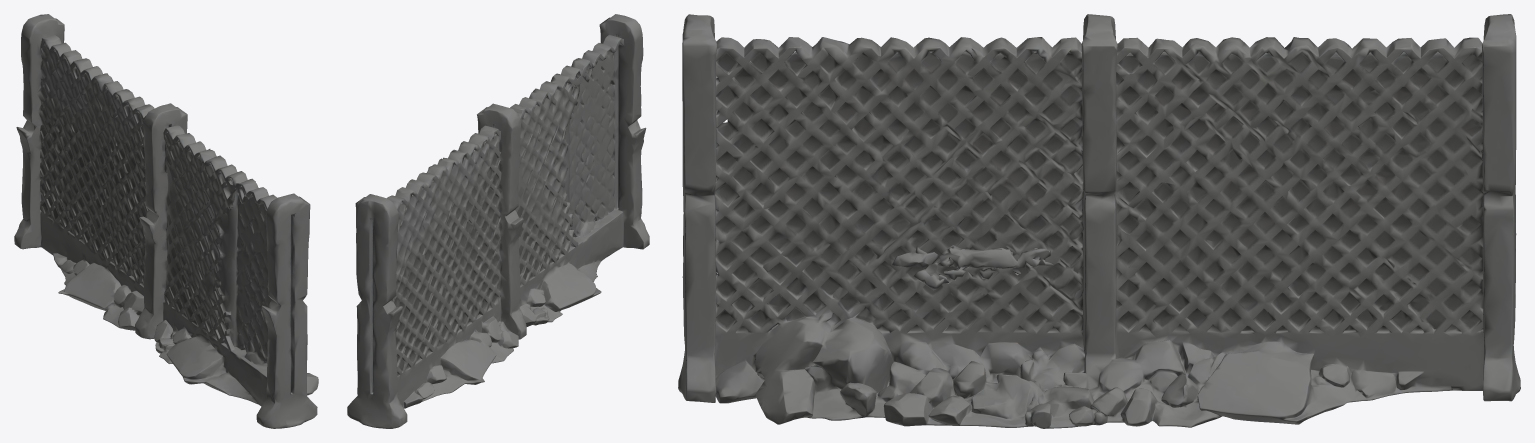
Rendered from chainfence.glb.
3 renders of one model, left to right at view 1: azimuth 30°, elevation 25°; view 2: azimuth 150°, elevation 25°; view 3: azimuth 270°, elevation 25°, orthographic. The views are drawn at different scales.
Visible parts, largest first — view 1: tripo_node_a6fc5fbc-f507-4c79-a23a-7408c628e4c1; view 2: tripo_node_a6fc5fbc-f507-4c79-a23a-7408c628e4c1; view 3: tripo_node_a6fc5fbc-f507-4c79-a23a-7408c628e4c1.
Part boxes in pixels (left/top/right/bottom): tripo_node_a6fc5fbc-f507-4c79-a23a-7408c628e4c1: left=14, top=14, right=318, bottom=428; tripo_node_a6fc5fbc-f507-4c79-a23a-7408c628e4c1: left=347, top=14, right=649, bottom=428; tripo_node_a6fc5fbc-f507-4c79-a23a-7408c628e4c1: left=678, top=14, right=1520, bottom=428.
Bounding box in the file's own units: 0.232 × 0.479 × 1.
Materials: 1 (1 with a texture image).
